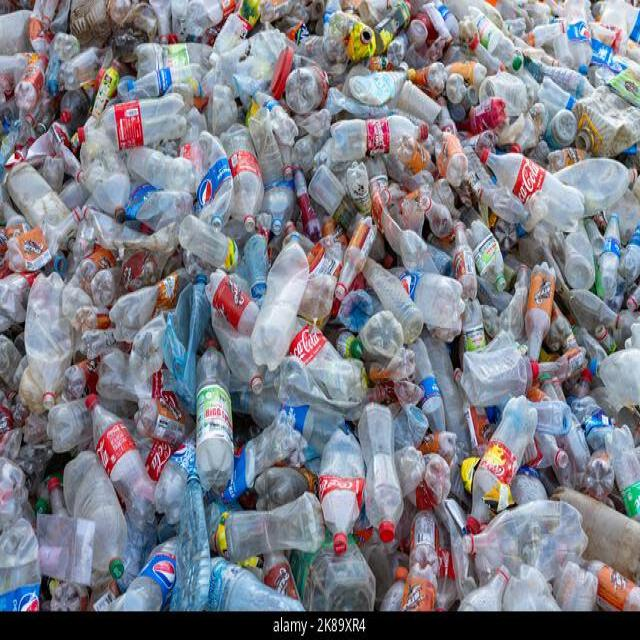plastic: (30, 24, 612, 556)
